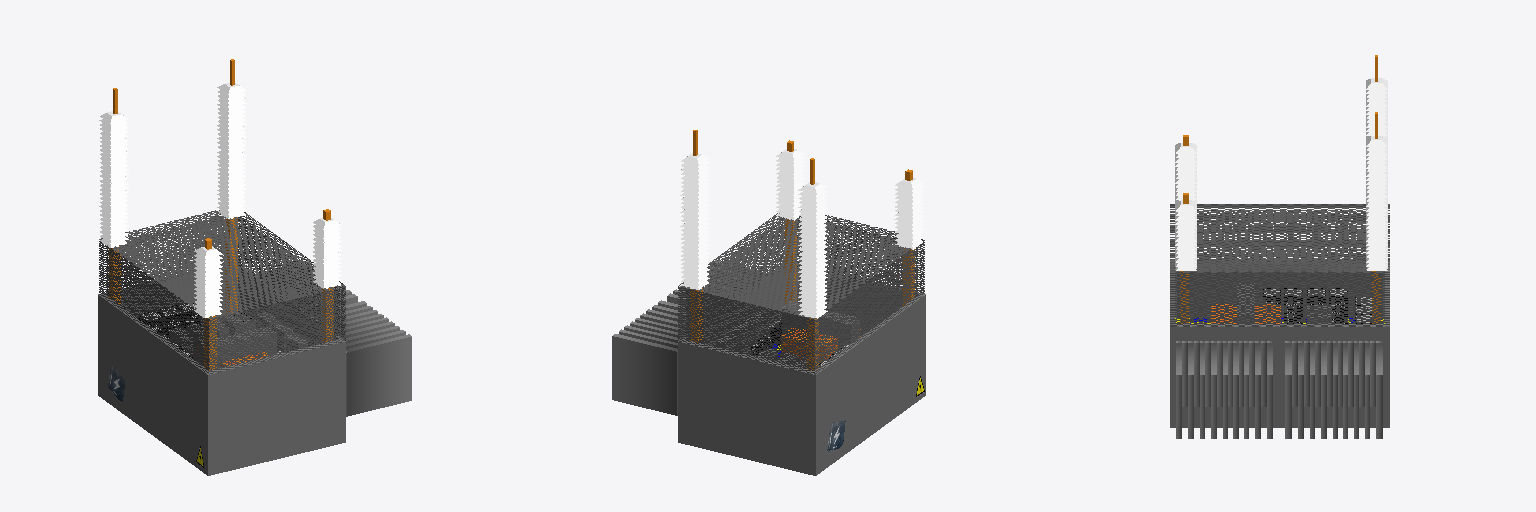
3 views of the same model, side by side, from view 1: azimuth 30°, elevation 25°; view 2: azimuth 150°, elevation 25°; view 3: azimuth 270°, elevation 25° (orthographic).
Parts seen in each view (by area): view 1: main, Cover_Cube.051; view 2: main, Cover_Cube.051; view 3: main, Cover_Cube.051.
Boxes of the visible parts, <box> form: main: <box>98,59,411,475</box>; Cover_Cube.051: <box>99,210,345,374</box>; main: <box>612,130,925,475</box>; Cover_Cube.051: <box>678,213,924,374</box>; main: <box>1170,55,1389,438</box>; Cover_Cube.051: <box>1170,204,1389,326</box>.
Bounding box in the file's own units: 2.18 × 3.1 × 2.
11 materials, 3 textured.